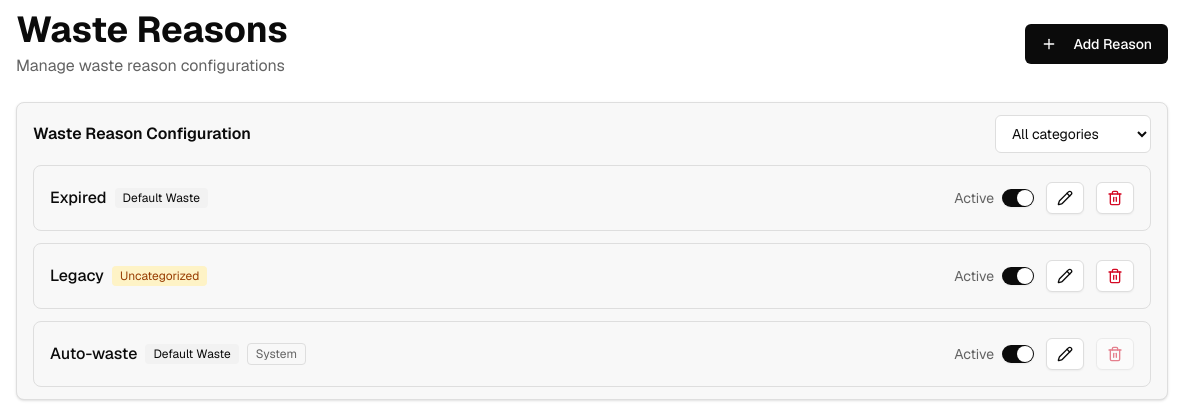
WasteReasonsAdmin — categories › filters to uncategorized reasons
Select "Uncategorized (1)" in the dropdown named "Filter by category" at (1073, 134), box [995,115,1151,153]
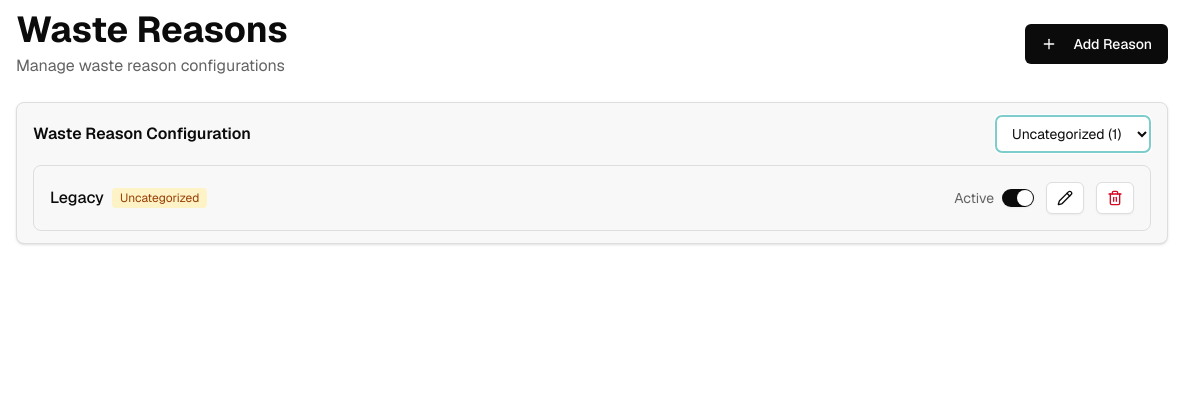
Expected: the text "Legacy" is shown, [50,186,104,210]
Result: the text "Expired" is gone
